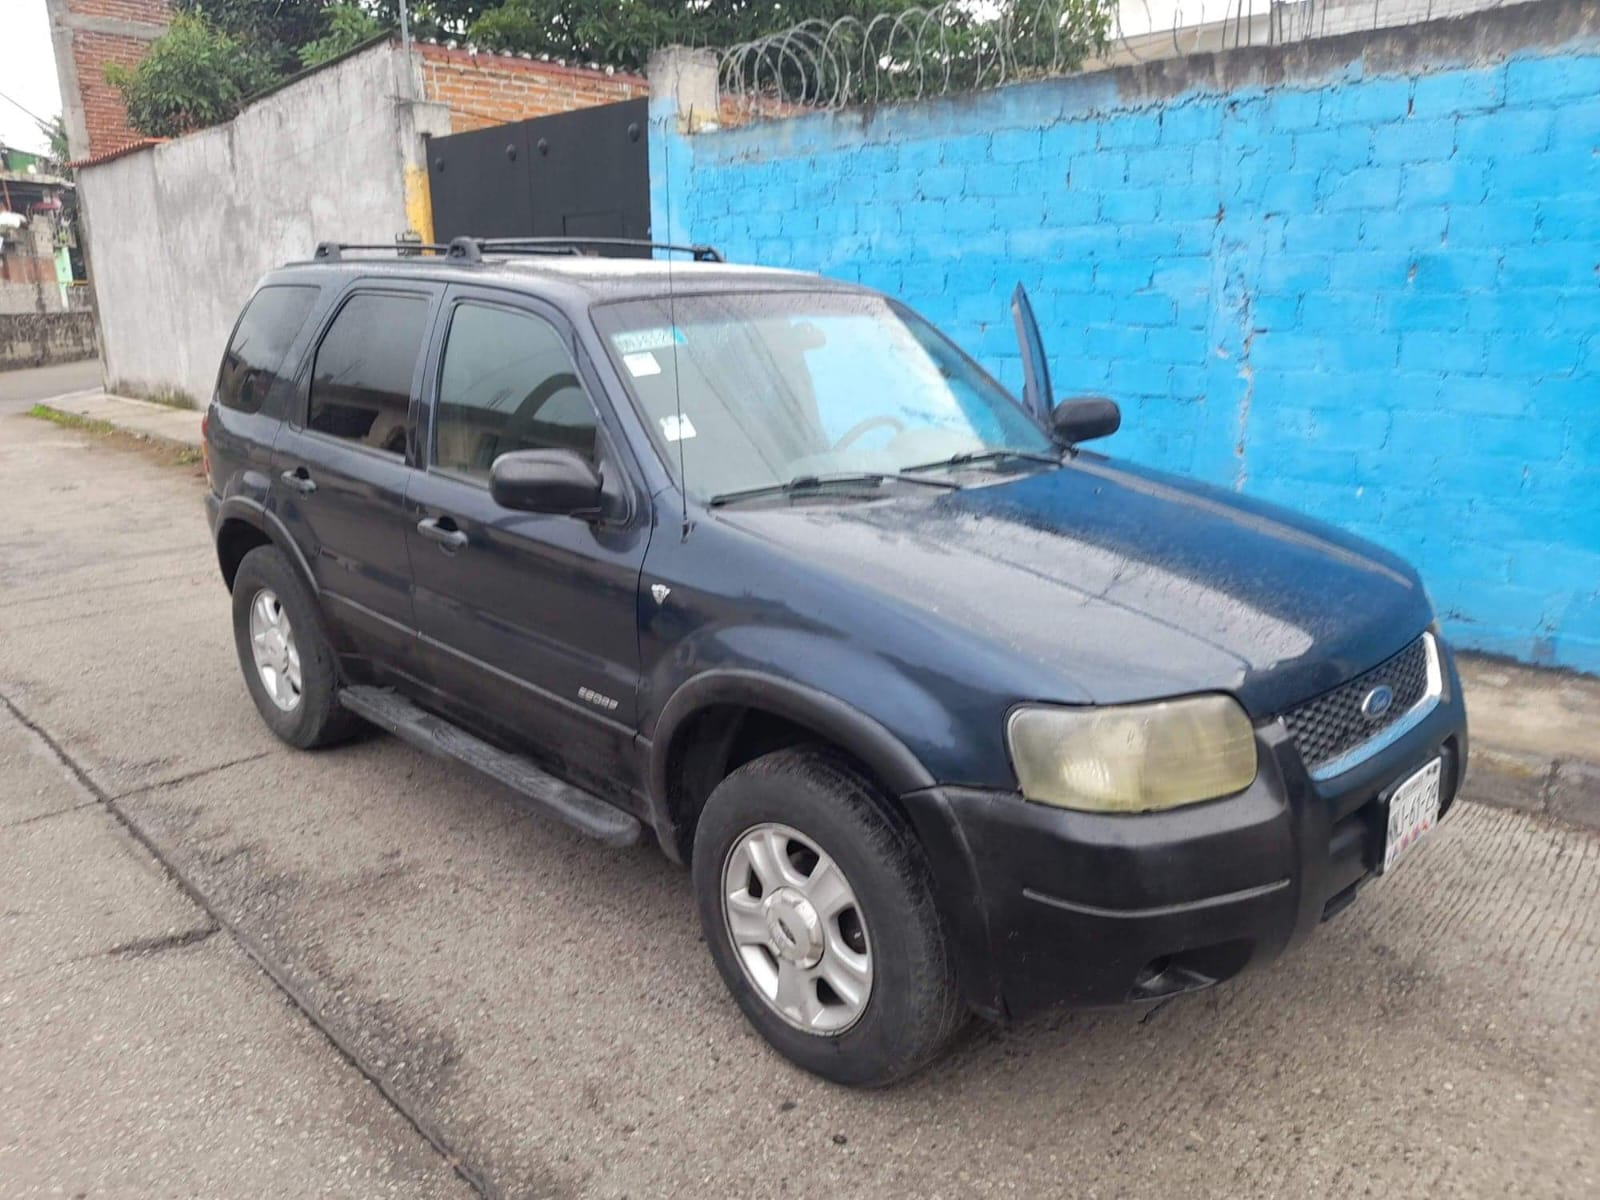Auto: (180, 233, 1474, 1089)
